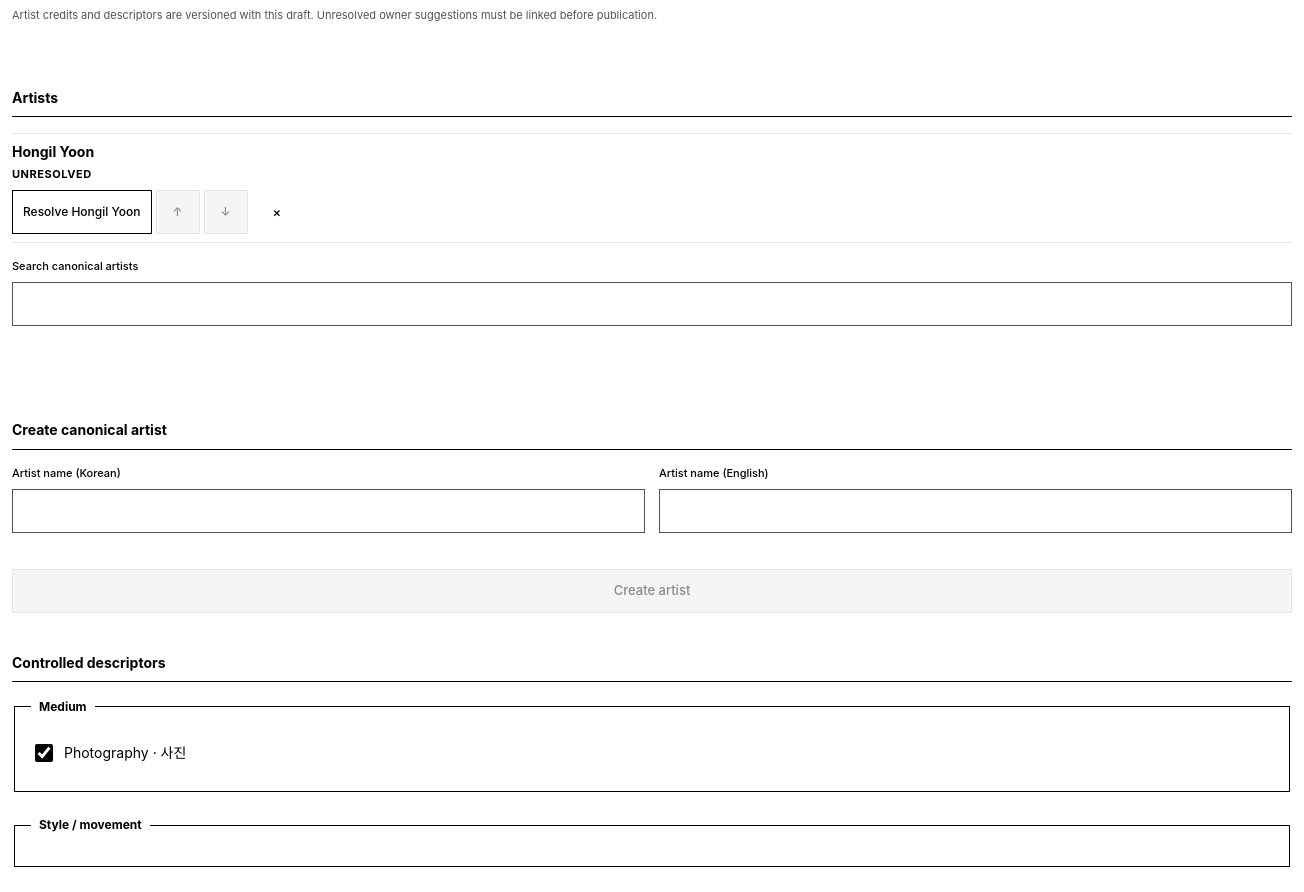
ExhibitionArtMetadataEditor › creates and links the prefilled suggestion in one click and ends resolution
Click the button "Resolve Hongil Yoon".
click(82, 212)  # box [12,190,152,234]
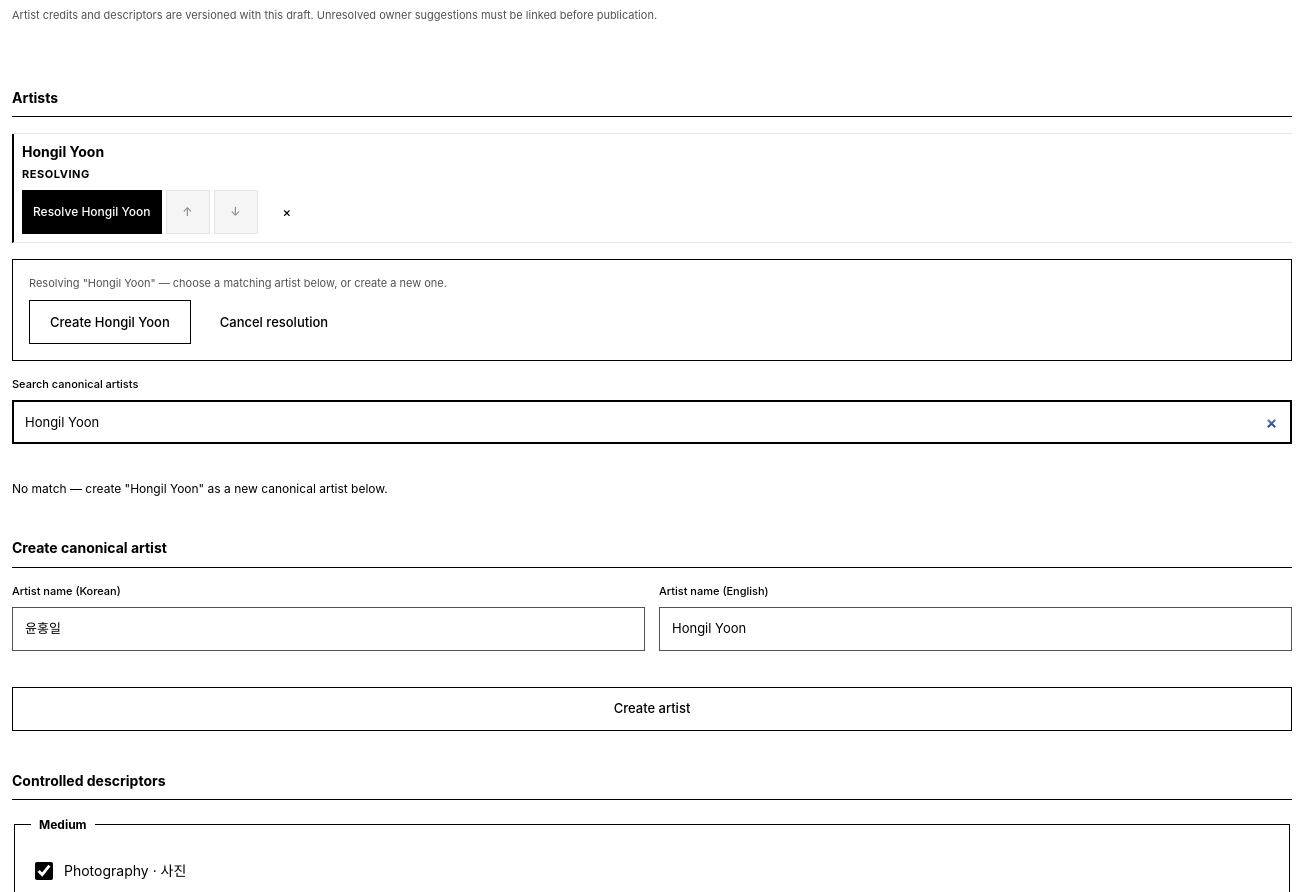
Expected: the text "No match — create \"Hongil Yoon\" as a new canonical artist below." is shown, [12,481,388,496]
Click the button "Create Hongil Yoon".
click(110, 322)  # box [29,300,191,344]
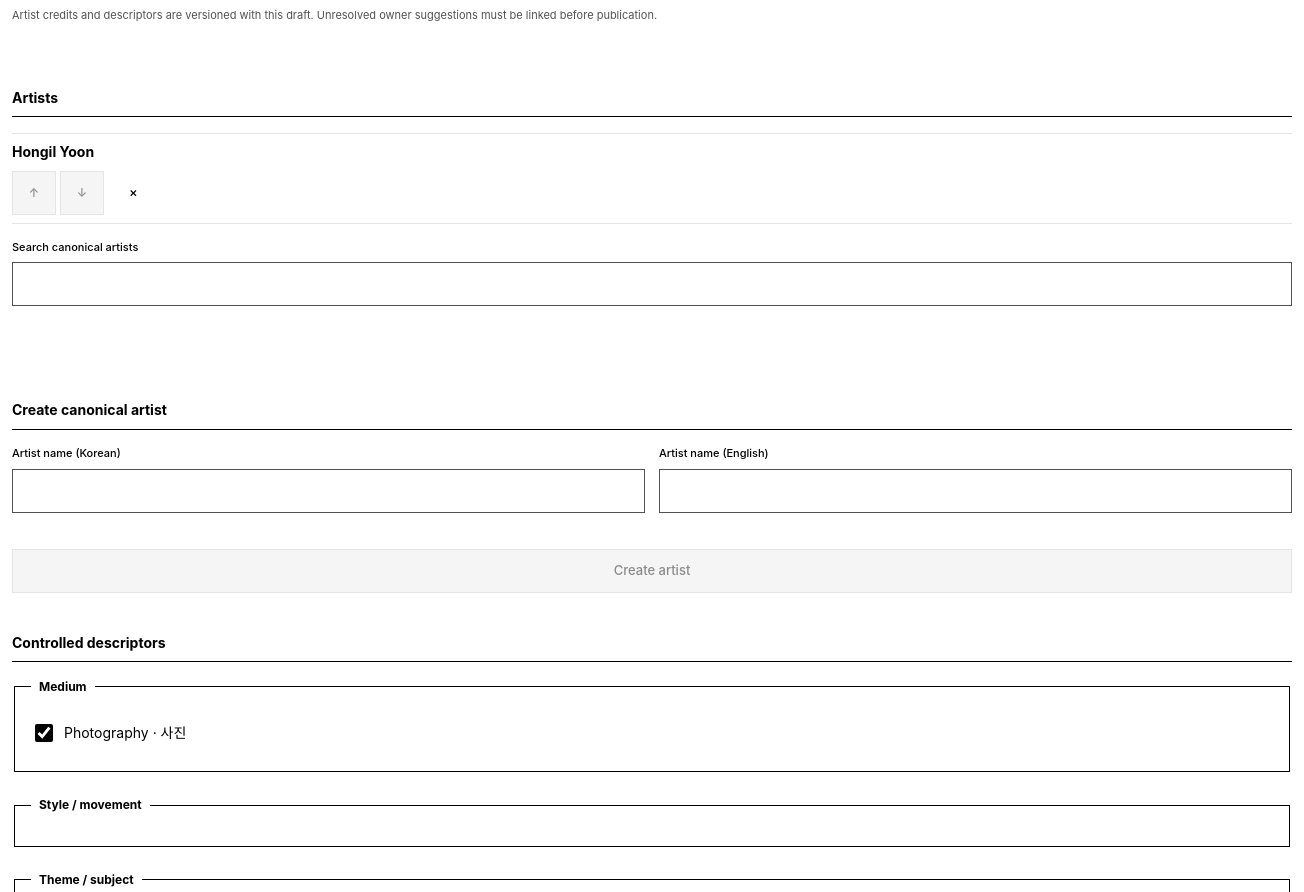
Expected: the text "RESOLVING" is gone
Expected: the number of list items is 1, [12,134,1292,224]
Expected: the search field is empty, [12,262,1292,306]
